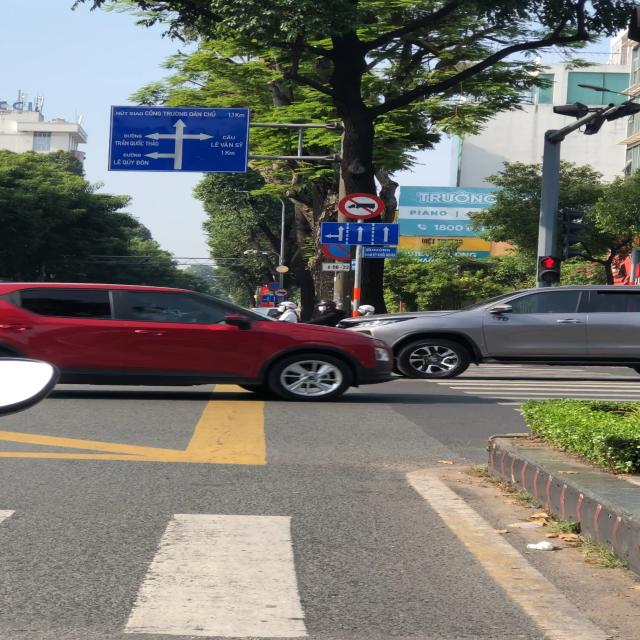Bien bao cam xe so-mi ro-mooc: (334, 192, 388, 222), (272, 287, 292, 298)
